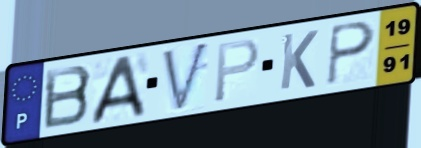A: (88, 52, 149, 127)
B: (41, 63, 95, 132)
K: (277, 28, 321, 93)
P: (325, 19, 378, 89), (211, 36, 262, 106)
V: (159, 38, 212, 115)
